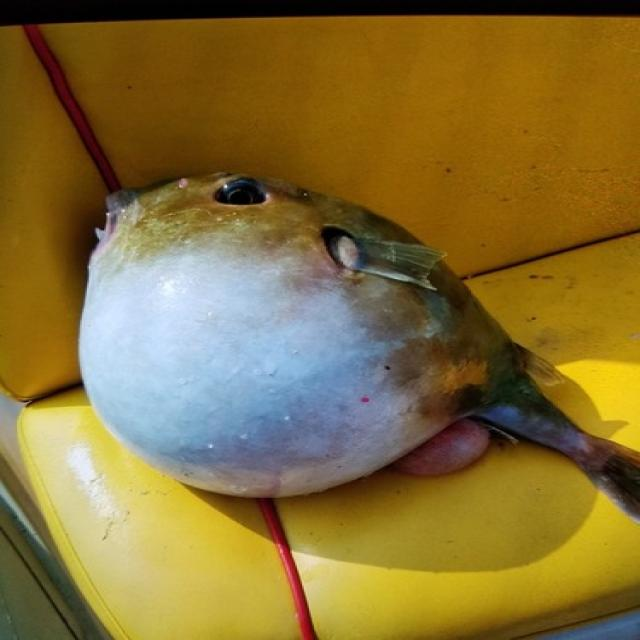Balik: (81, 173, 639, 520)
